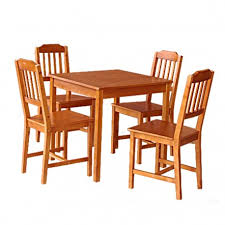tiyarina: (128, 57, 213, 205), (10, 55, 91, 186)
